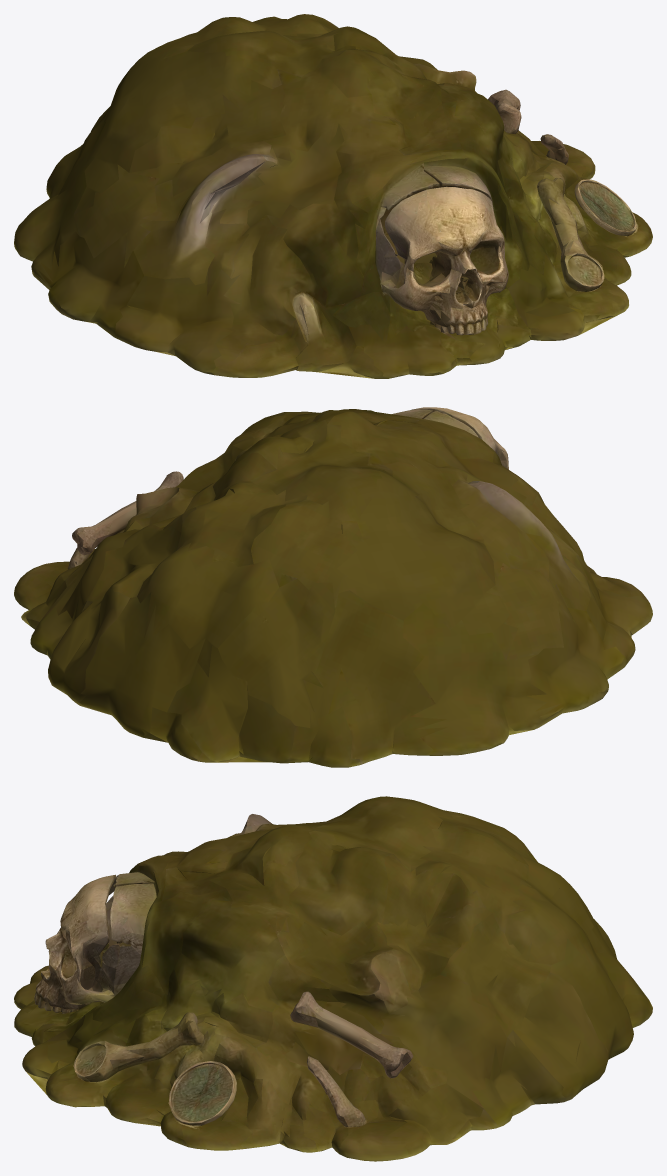
The model's file is slime-CqtI2WR6.glb.
3 renders of one model, top to bottom at view 1: azimuth 30°, elevation 25°; view 2: azimuth 150°, elevation 25°; view 3: azimuth 270°, elevation 25°, orthographic.
Parts seen in each view (by area): view 1: output_unwrapped; view 2: output_unwrapped; view 3: output_unwrapped.
Part boxes in pixels (left/top/right/bottom): output_unwrapped: left=14, top=14, right=652, bottom=378; output_unwrapped: left=14, top=407, right=652, bottom=767; output_unwrapped: left=14, top=796, right=652, bottom=1161.
Bounding box in the file's own units: 1.57 × 0.55 × 1.58.
1 material, 1 textured.
